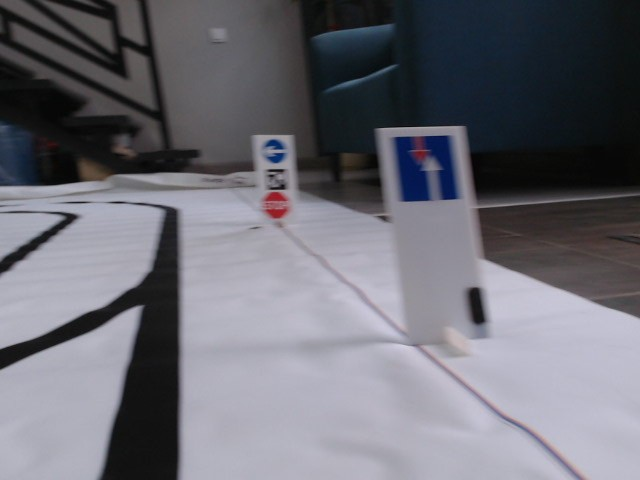priority_movement: (392, 135, 460, 202)
